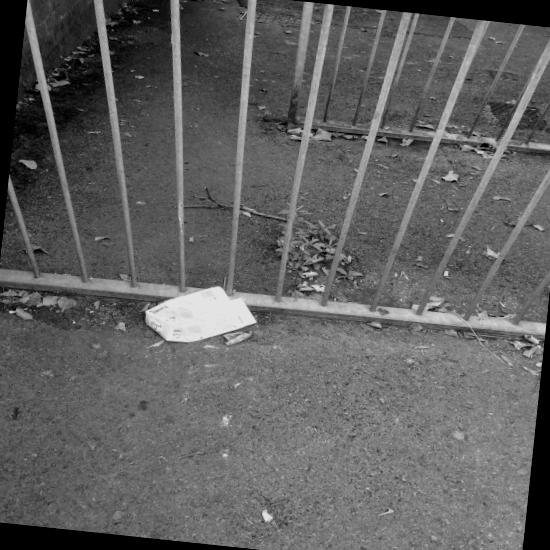Clear plastic bottle: (414, 447, 435, 465)
Drink can: (265, 257, 275, 263), (249, 258, 260, 262)
Glass bottle: (438, 459, 468, 468)
Unlabeled litter: (304, 545, 316, 550)
